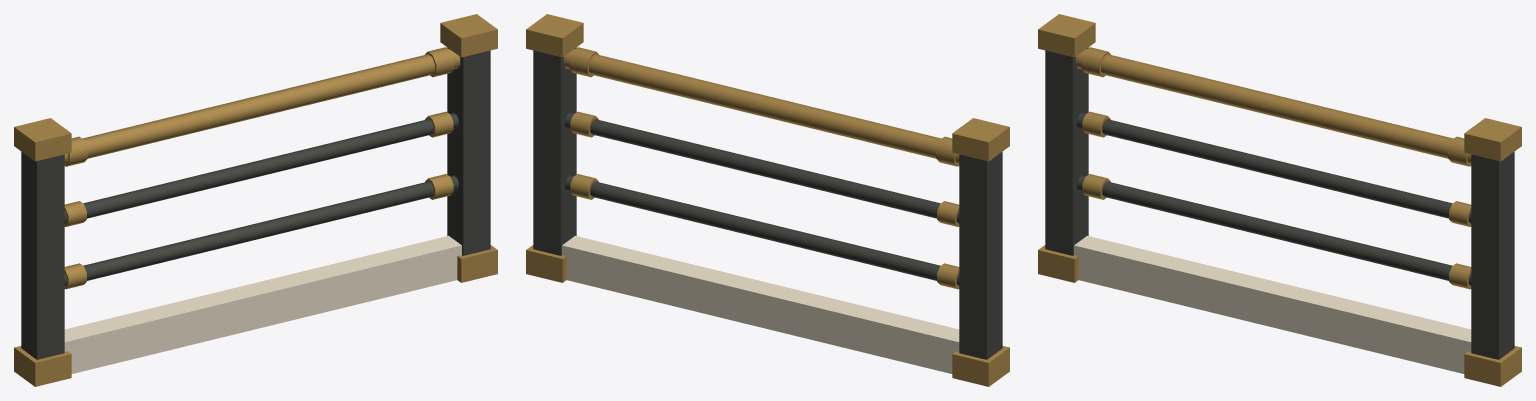
File: railing.glb
The picture shows the model from 3 angles, left to right: view 1: azimuth 30°, elevation 25°; view 2: azimuth 150°, elevation 25°; view 3: azimuth 330°, elevation 25°; orthographic projection.
Parts seen in each view (by area): view 1: railing; view 2: railing; view 3: railing.
Part boxes in pixels (x1,y1,x2,y2): railing: (14, 14, 497, 386); railing: (526, 14, 1009, 386); railing: (1038, 14, 1521, 386).
Bounding box in the file's own units: 2.02 × 1.02 × 0.16.
